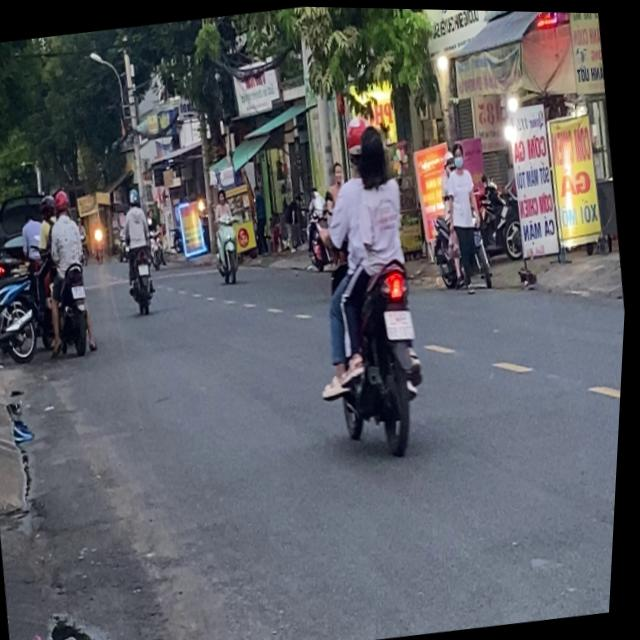helmet: (354, 119, 394, 183), (343, 113, 373, 165), (53, 187, 74, 216), (41, 192, 59, 220)
licenseplate: (289, 107, 450, 464), (33, 183, 108, 360)
motorcyclist: (354, 119, 394, 184)
nohelmet: (385, 305, 418, 339), (73, 282, 89, 298)
